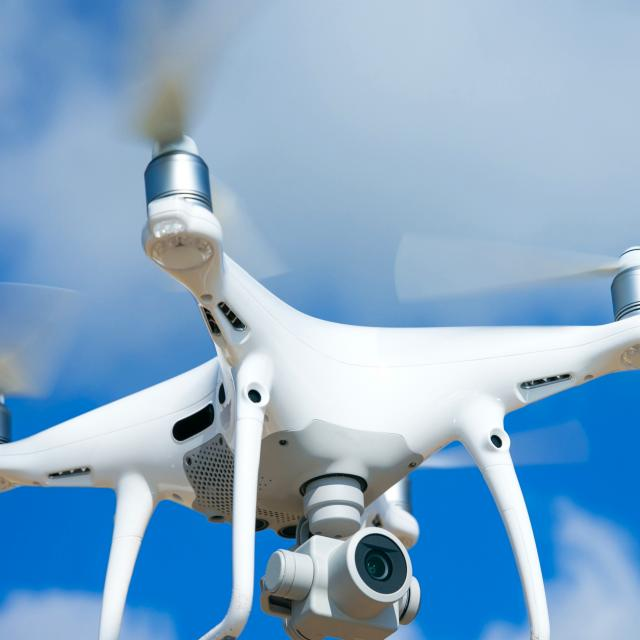drone: (0, 68, 640, 639)
